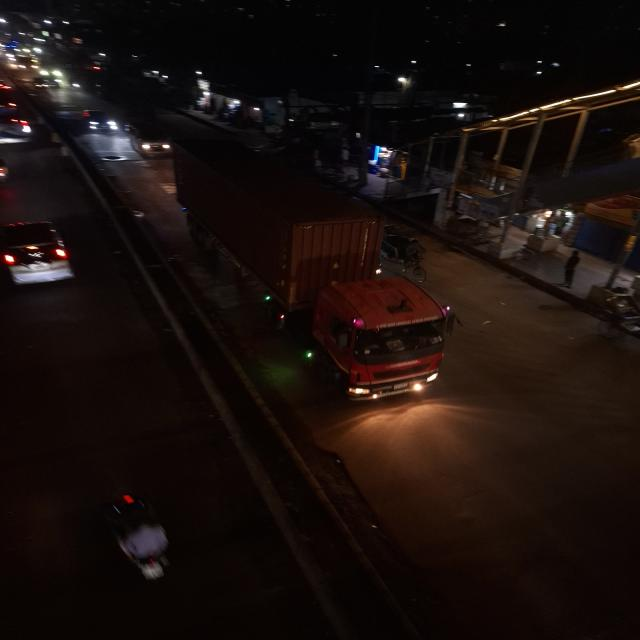car: (0, 218, 79, 292), (128, 122, 178, 158), (79, 108, 119, 134)
motorcycle: (94, 492, 181, 588), (0, 150, 11, 186)
rickshaw: (383, 228, 433, 276)
truck: (168, 143, 449, 404)
